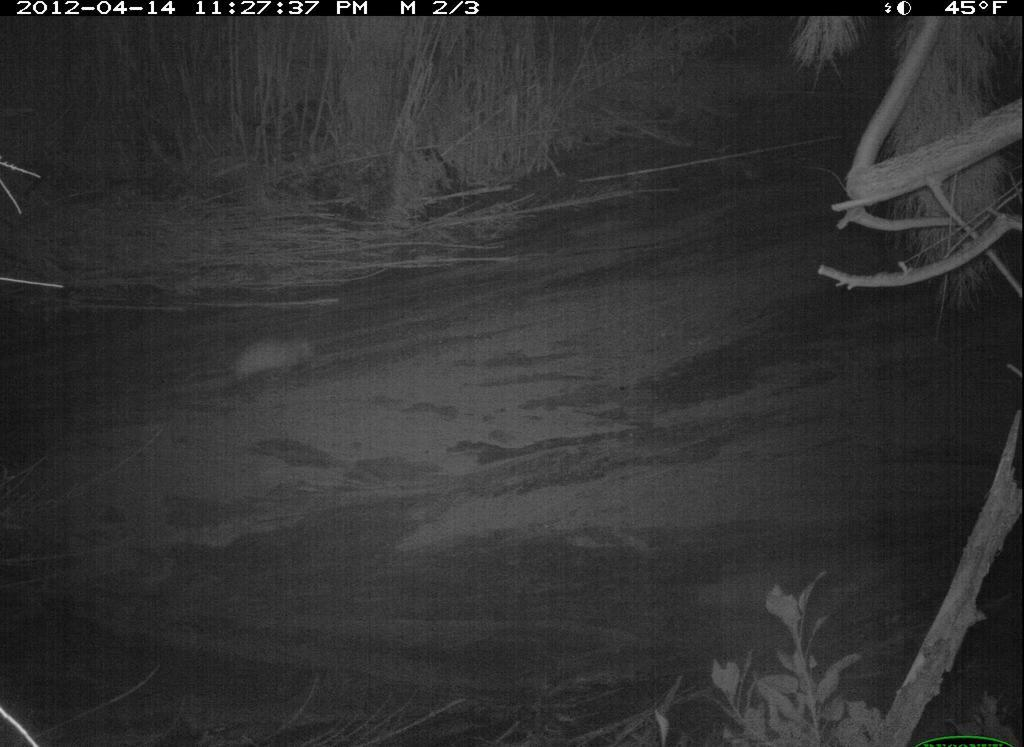opossum: (205, 295, 346, 413)
